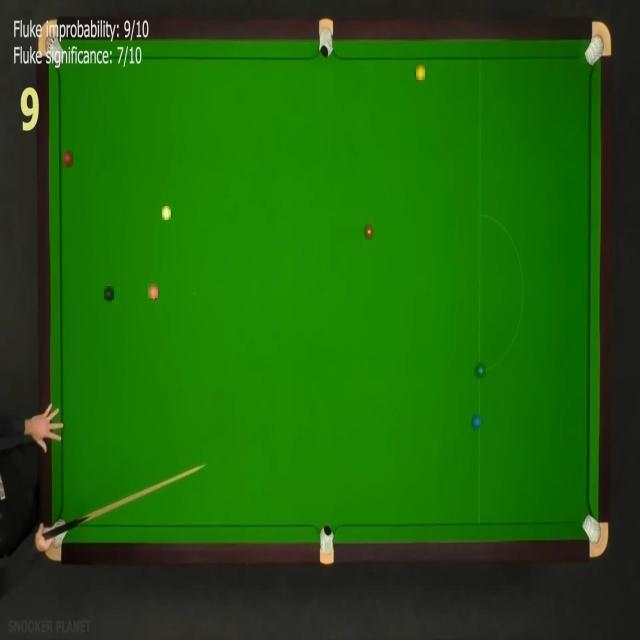Ball: (474, 362, 486, 378), (148, 284, 158, 298), (104, 286, 114, 300), (63, 152, 73, 166), (416, 65, 425, 80), (162, 206, 171, 220), (365, 224, 373, 238), (473, 415, 481, 428)
